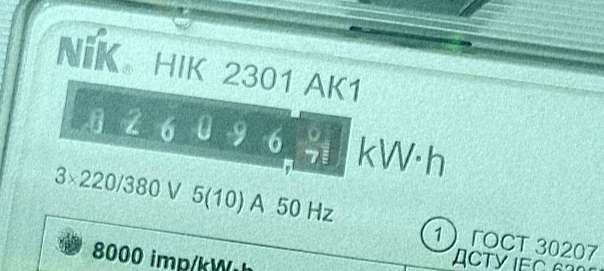0: (193, 111, 218, 148), (86, 104, 110, 139)
2: (121, 105, 147, 142)
6: (158, 112, 181, 149), (265, 123, 288, 158), (304, 118, 327, 148)
7: (302, 147, 323, 170)
9: (229, 118, 252, 153)
screen: (49, 71, 362, 192)
